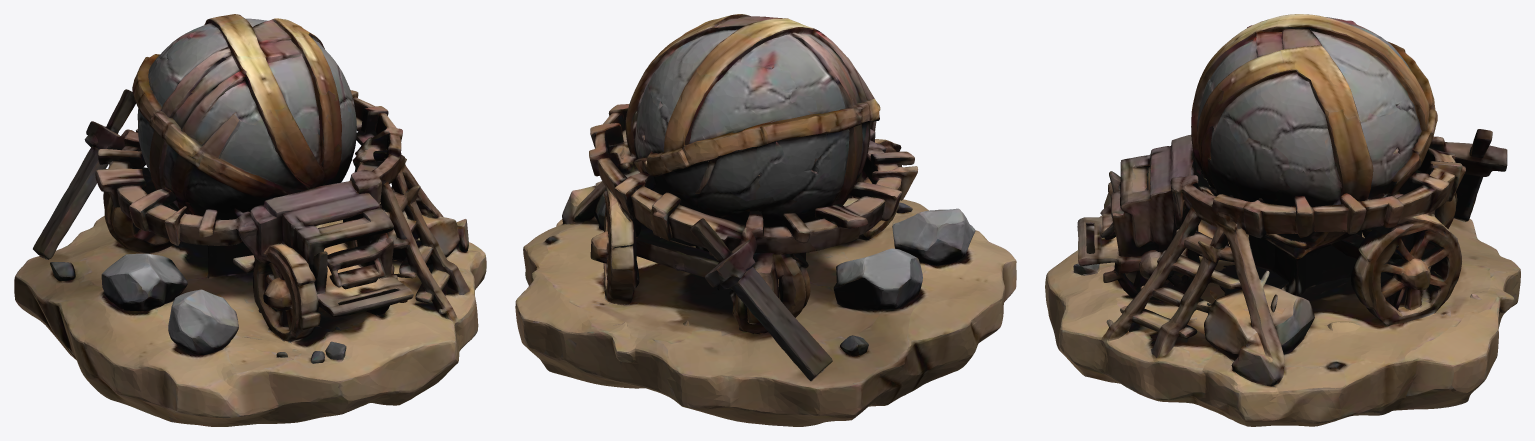
Rendered from field_siege_boulder_01.glb.
The picture shows the model from 3 angles, left to right: view 1: azimuth 30°, elevation 25°; view 2: azimuth 150°, elevation 25°; view 3: azimuth 270°, elevation 25°; orthographic projection. The views are drawn at different scales.
Parts seen in each view (by area): view 1: geometry_0; view 2: geometry_0; view 3: geometry_0.
Part boxes in pixels (x1,y1,x2,y2): geometry_0: [14, 14, 486, 426]; geometry_0: [515, 14, 1016, 426]; geometry_0: [1045, 14, 1520, 426].
Size of the model in its own units: 0.9975 by 0.7496 by 1.
Materials: 1 (1 with a texture image).
